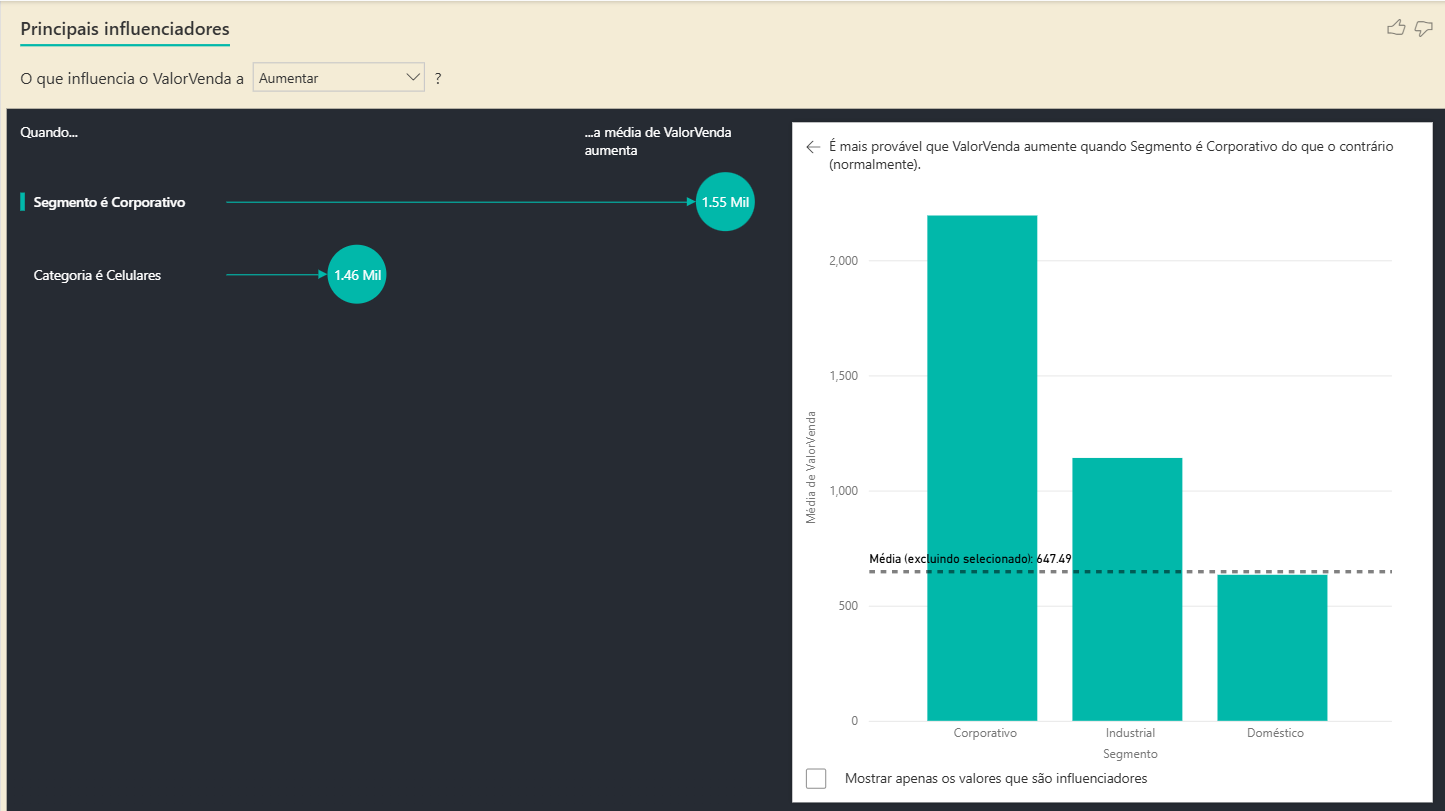

The page's visual inventory and layout, read from the dashboard file:
{"tool":"powerbi","page":{"name":"Principais Influenciadores de Vendas","canvas":[1280,720],"ordinal":2},"visuals":[{"type":"keyDriversVisual","fields":{"Target":["Vendas.ValorVenda"],"ExplainBy":["Vendas.Segmento","Vendas.Categoria"]},"box":[0,0,1280,720],"z":0}]}

Visuals, with their boxes on the page's 1280x720 design canvas (x1, y1, x2, y2). These are canvas units, not pixel positions in the 1445x811 screenshot, which may show the page scaled, cropped or inside an application window:
keyDriversVisual - Vendas.ValorVenda x Vendas.Segmento: rect(0, 0, 1280, 720)
